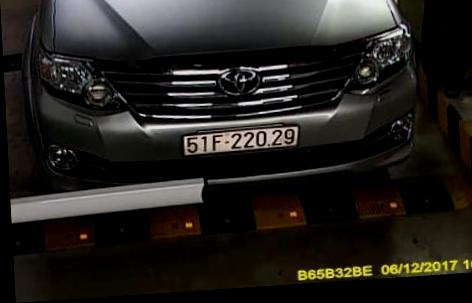License_Plate: (175, 119, 303, 162)
